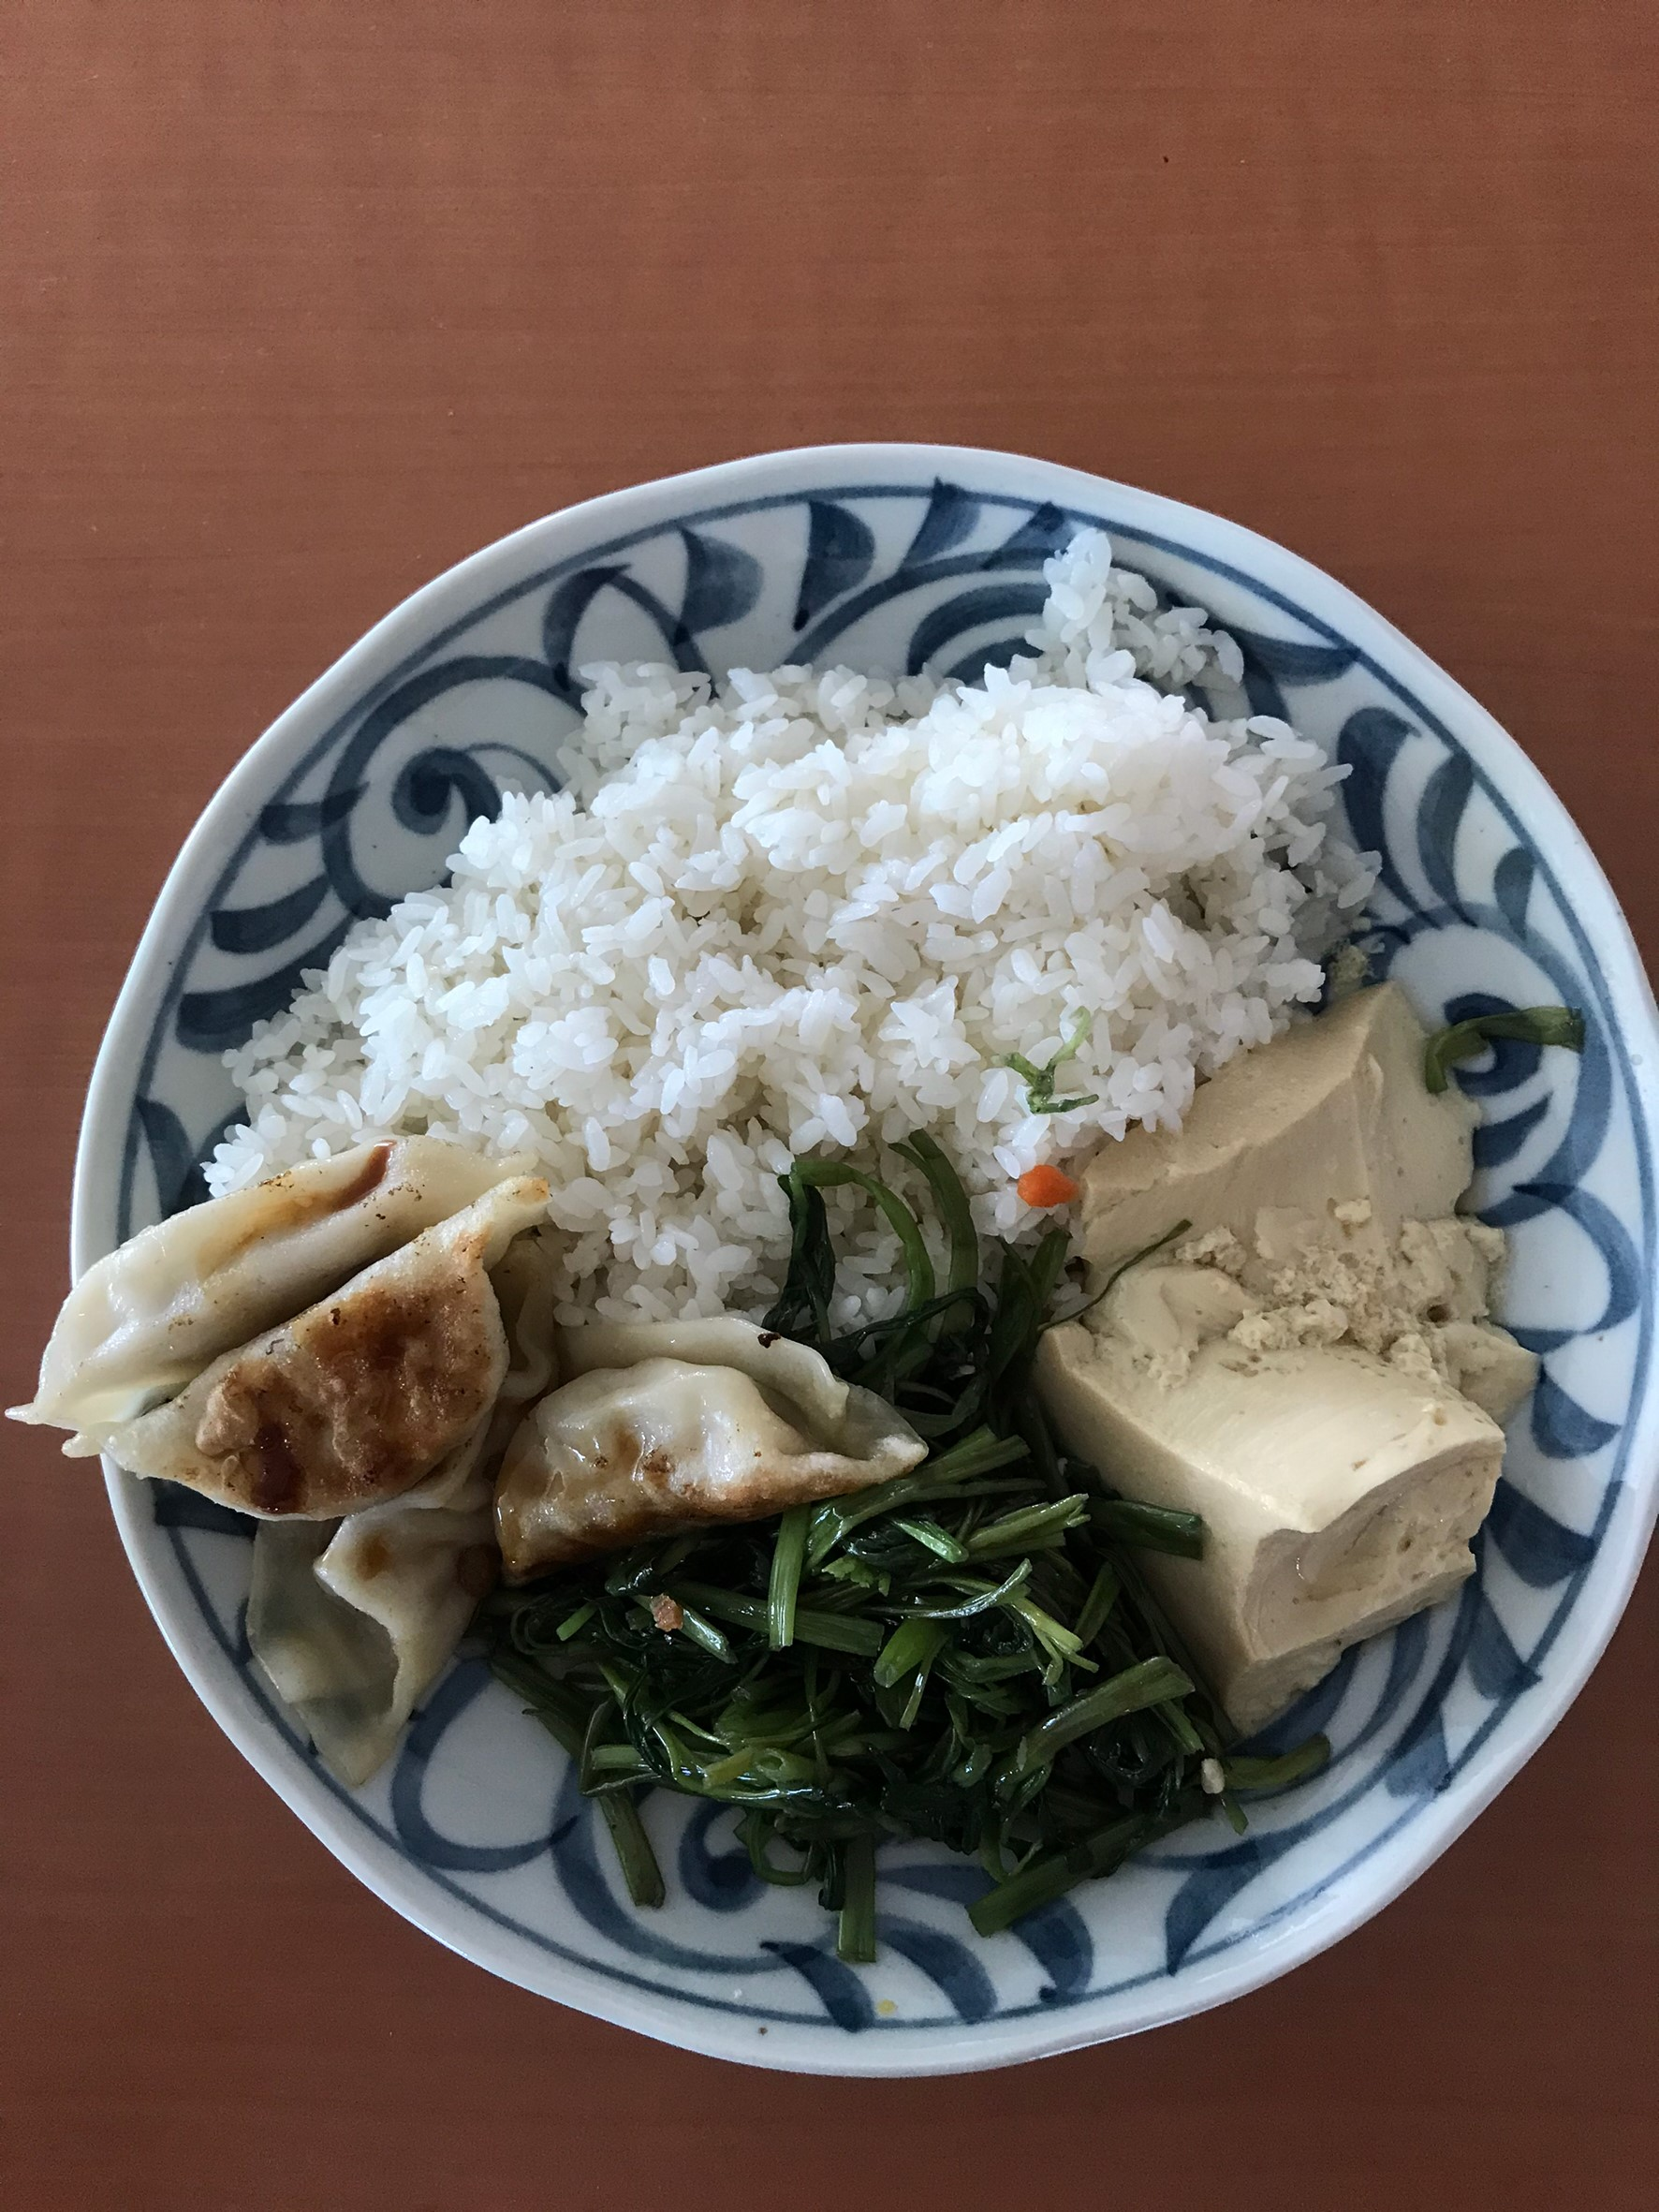fried_dumplings: (112, 1194, 843, 1506)
rice: (411, 697, 1253, 1198)
water_spinach: (685, 1468, 1134, 1856)
